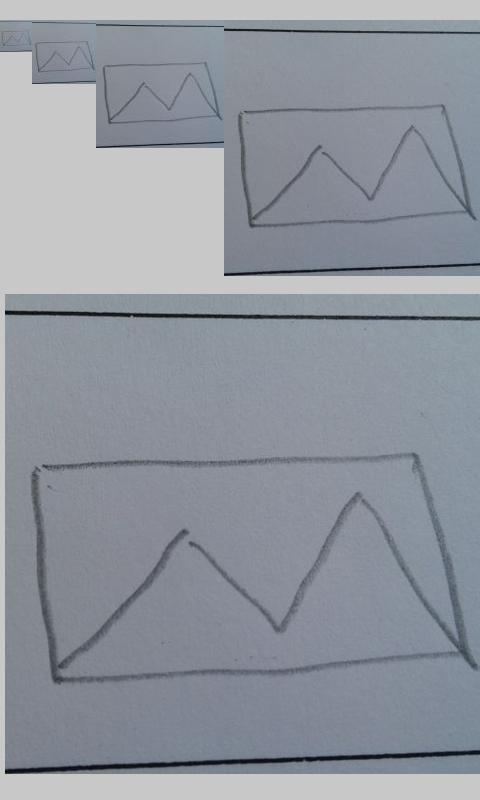image_view: (26, 452, 465, 687), (231, 101, 472, 229), (102, 61, 220, 125), (35, 40, 95, 73), (1, 29, 31, 48)
